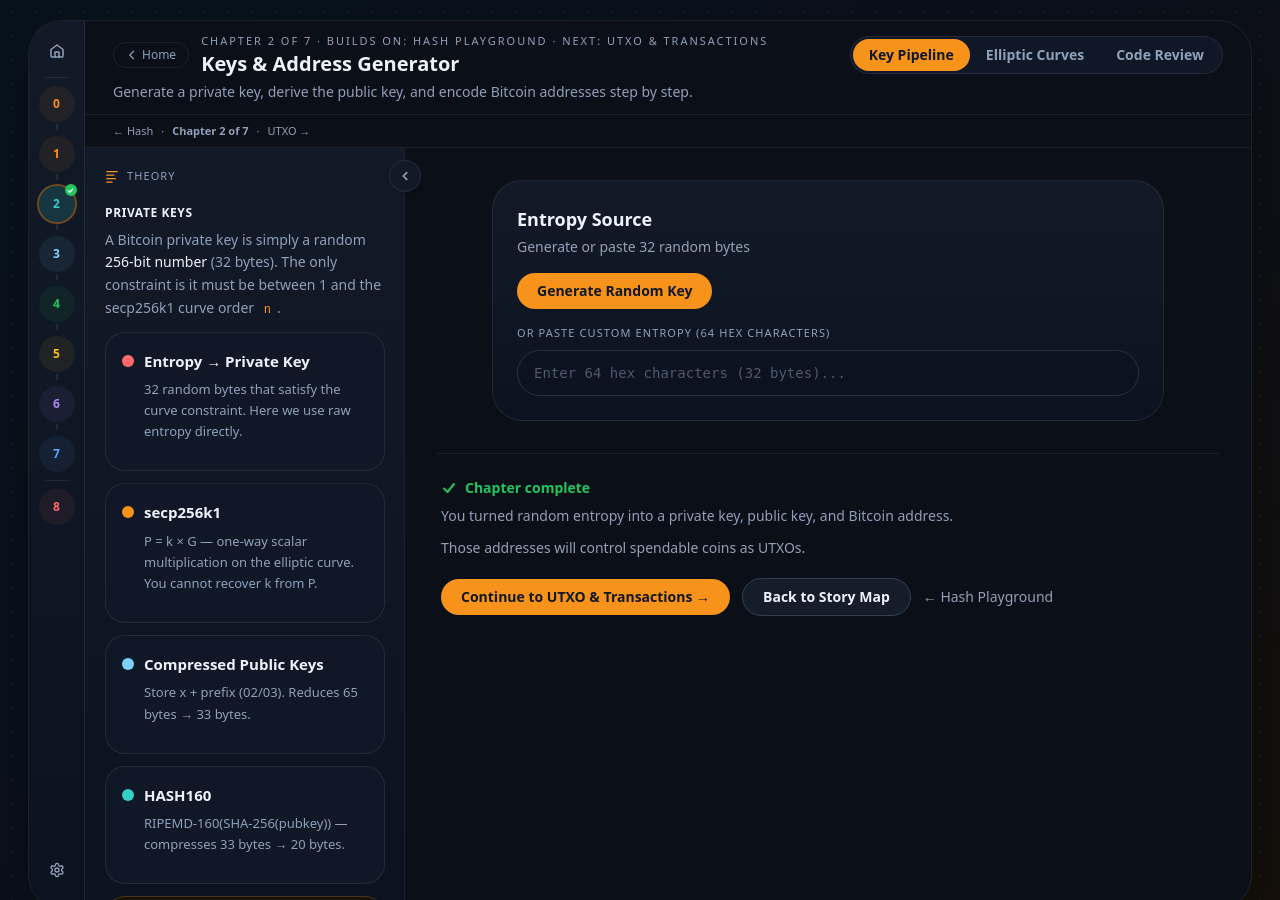
Scenario: KeysExplorer › AC9: SecurityCallout displayed over private key with never share warning
Step 1. Click the button "Generate Random Key" → point(615, 291), box [517,273,712,309]
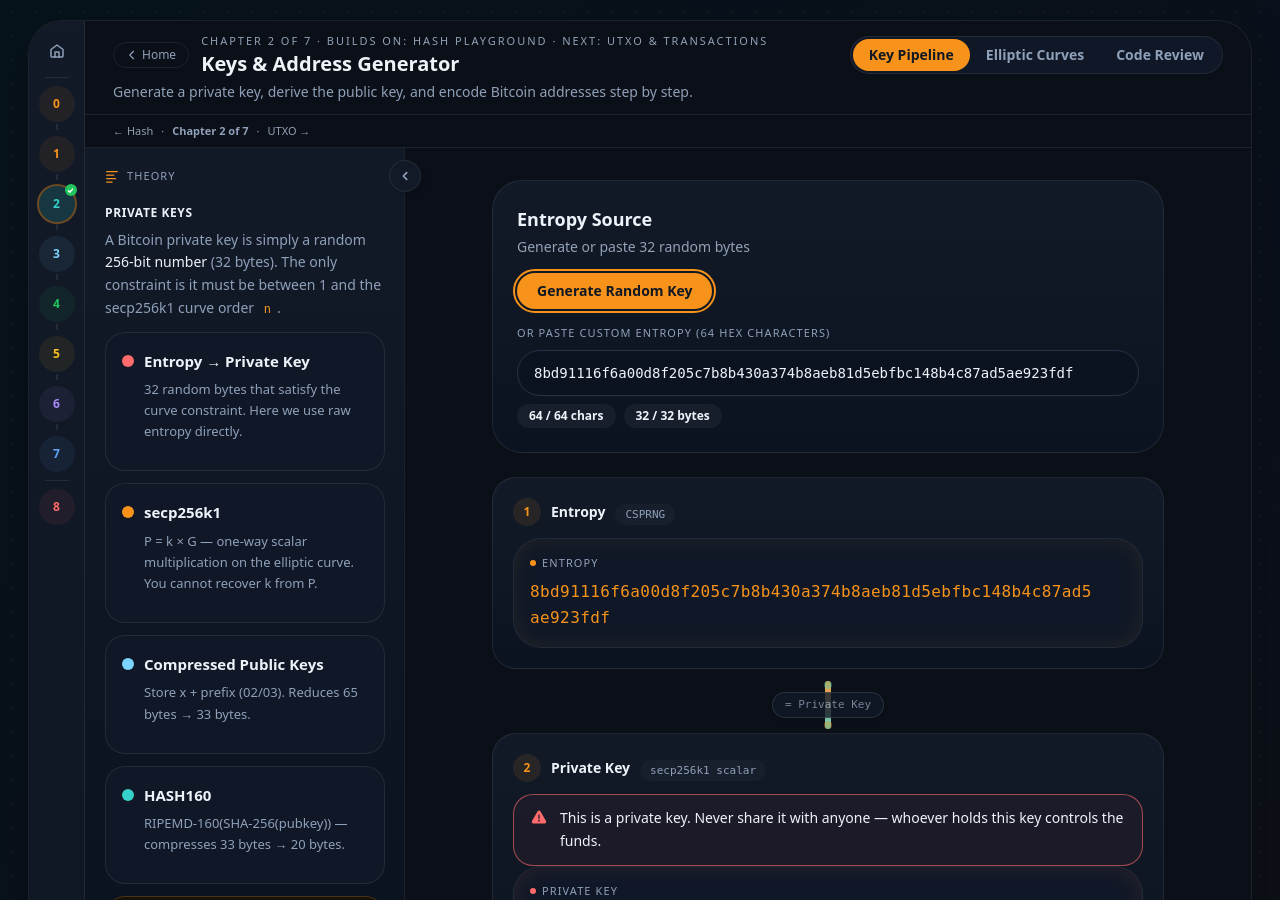
Result: the message is shown at [513,794,1143,866]
